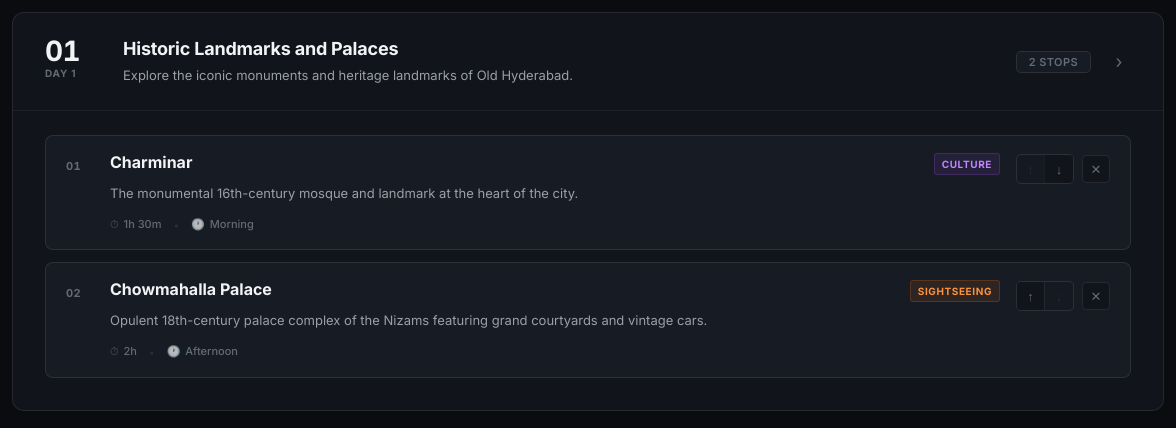
Test: DayCard Component › toggles expansion state and updates aria attributes
This screenshot has width=1176, height=428.
Click the button "Historic Landmarks and Palaces".
click(63, 51)  # box [13, 13, 1163, 110]
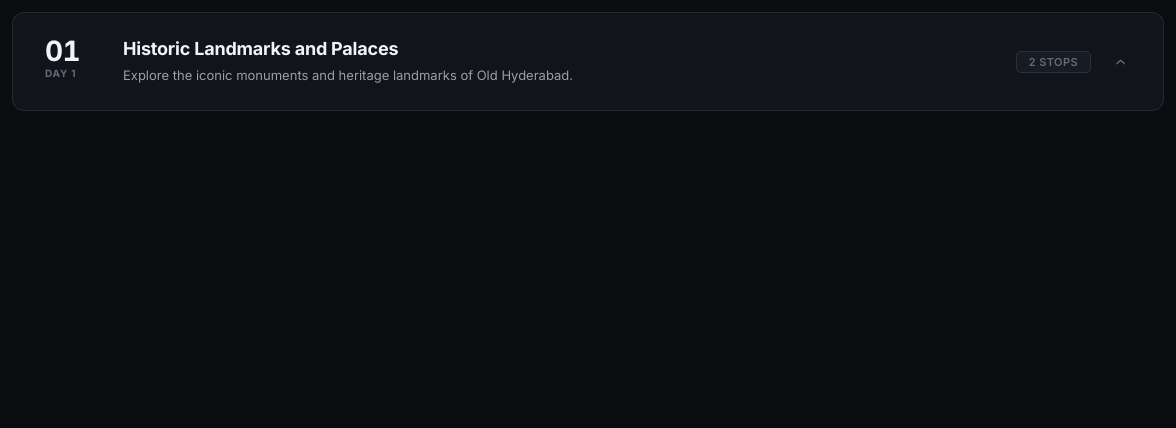
Now the button "Historic Landmarks and Palaces" is collapsed, box [13, 13, 1163, 110]
